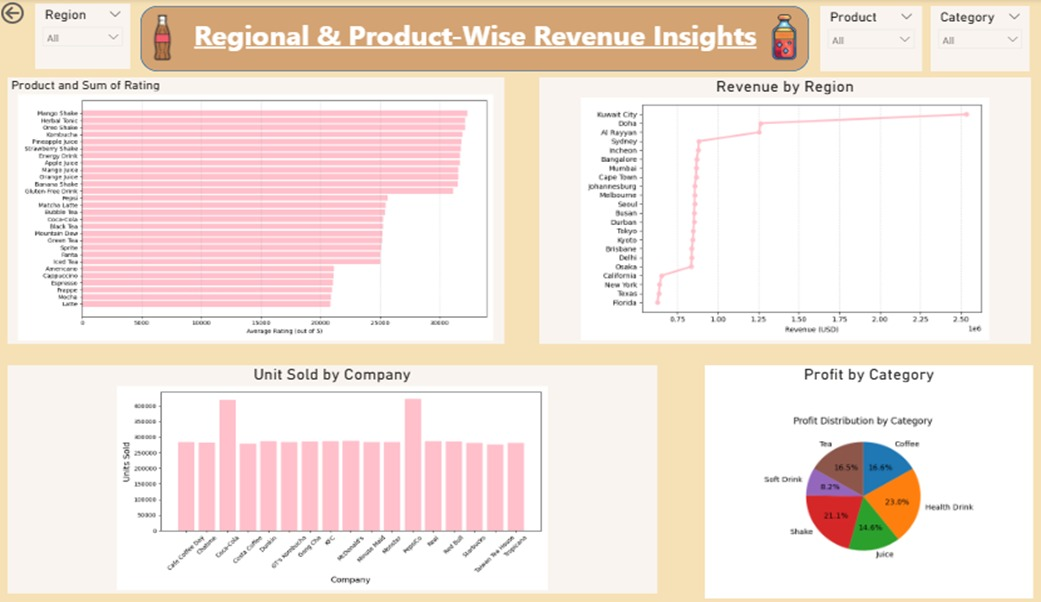

This screenshot's page, from the dashboard's own definition file:
{"tool":"powerbi","page":{"name":"Page 5","canvas":[1400,850],"ordinal":4},"visuals":[{"type":"shape","box":[190.7,10,891.8,92],"z":0},{"type":"textbox","box":[237.6,20.1,799.8,66.9],"z":1000},{"type":"image","box":[1007.3,16.7,85.3,73.6],"z":2000},{"type":"image","box":[174,0,92,107.1],"z":3000},{"type":"pythonVisual","title":"Unit Sold by Company","fields":{"Values":["Sum(beverages_data.Unit_Sold)","beverages_data.Company"]},"box":[13.4,515.4,866.7,321.3],"z":4000},{"type":"slicer","fields":{"Values":["beverages_data.Region"]},"box":[50.2,6.7,127.2,92],"z":5000},{"type":"slicer","fields":{"Values":["beverages_data.Category"]},"box":[1244.9,10,132.2,92],"z":6000},{"type":"pythonVisual","title":"Revenue by Region","fields":{"Values":["Sum(beverages_data.Revenue_USD)","beverages_data.Region"]},"box":[722.8,110.4,655.9,374.8],"z":7000},{"type":"pythonVisual","title":"Profit by Category","fields":{"Values":["Sum(beverages_data.Profit_USD)","beverages_data.Category"]},"box":[943.7,515.4,438.4,328],"z":8000},{"type":"slicer","fields":{"Values":["beverages_data.Product"]},"box":[1097.6,10,135.5,92],"z":9000},{"type":"pythonVisual","fields":{"Values":["beverages_data.Product","Sum(beverages_data.Rating)"]},"box":[13.4,110.4,662.6,374.8],"z":10000},{"type":"actionButton","box":[0,0,100,40],"z":13000}]}

Visuals, with their boxes on the page's 1400x850 design canvas (x1, y1, x2, y2). These are canvas units, not pixel positions in the 1041x602 screenshot, which may show the page scaled, cropped or inside an application window:
shape: pyautogui.locateOnScreen(191, 10, 1082, 102)
textbox: pyautogui.locateOnScreen(238, 20, 1037, 87)
image: pyautogui.locateOnScreen(1007, 17, 1093, 90)
image: pyautogui.locateOnScreen(174, 0, 266, 107)
"Unit Sold by Company" pythonVisual: pyautogui.locateOnScreen(13, 515, 880, 837)
slicer - beverages_data.Region: pyautogui.locateOnScreen(50, 7, 177, 99)
slicer - beverages_data.Category: pyautogui.locateOnScreen(1245, 10, 1377, 102)
"Revenue by Region" pythonVisual: pyautogui.locateOnScreen(723, 110, 1379, 485)
"Profit by Category" pythonVisual: pyautogui.locateOnScreen(944, 515, 1382, 843)
slicer - beverages_data.Product: pyautogui.locateOnScreen(1098, 10, 1233, 102)
pythonVisual - beverages_data.Product x Sum(beverages_data.Rating): pyautogui.locateOnScreen(13, 110, 676, 485)
actionButton: pyautogui.locateOnScreen(0, 0, 100, 40)
